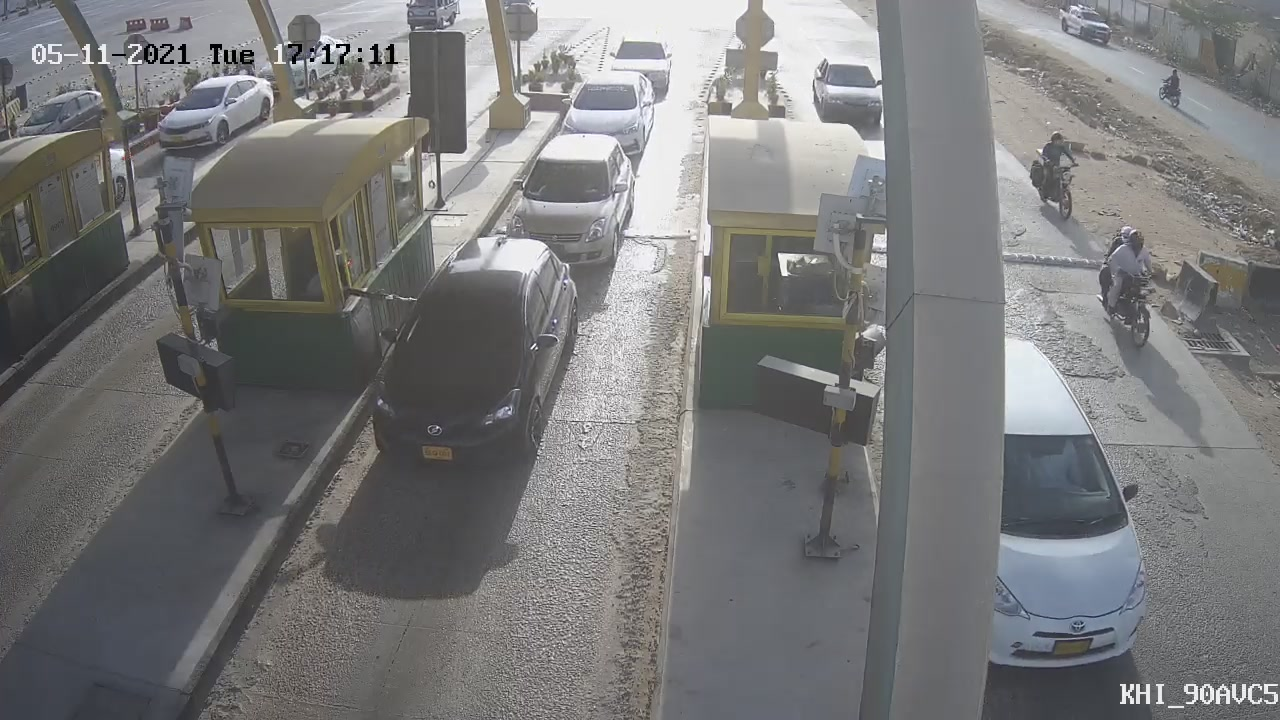F1: (346, 221, 601, 485), (489, 122, 646, 285), (550, 64, 668, 174)
